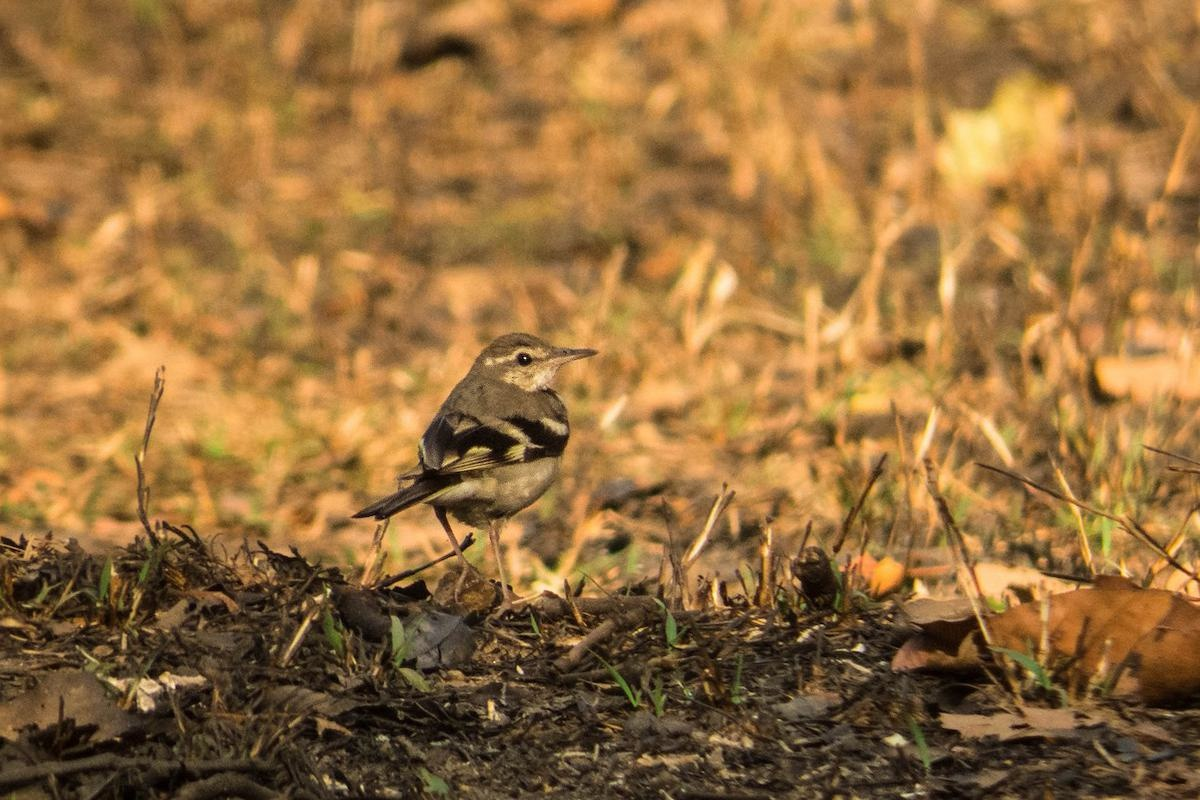wagtail: (364, 320, 627, 552)
